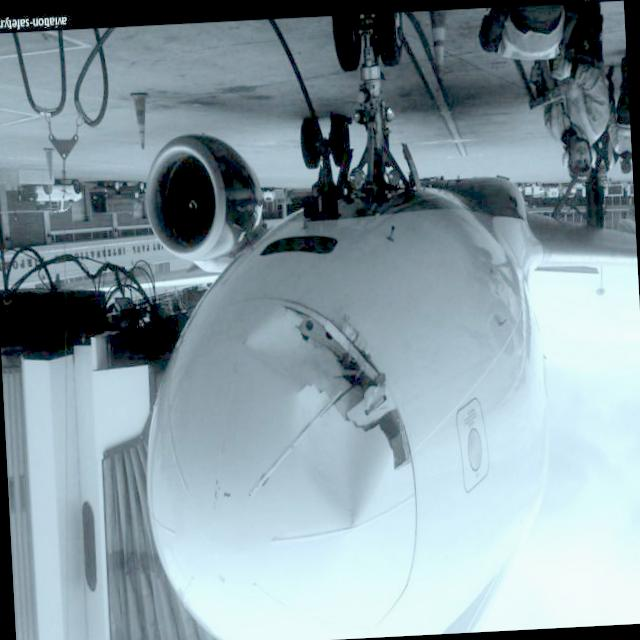dent: (290, 384, 394, 526), (242, 311, 328, 390)
